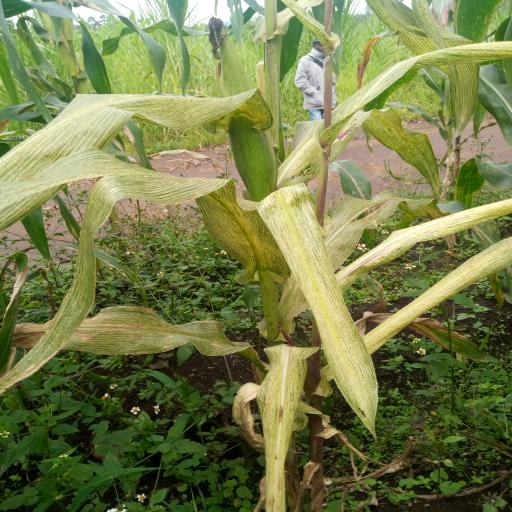Corn_Streak: (0, 89, 269, 219), (266, 182, 390, 426), (0, 302, 251, 360), (257, 346, 317, 512)
